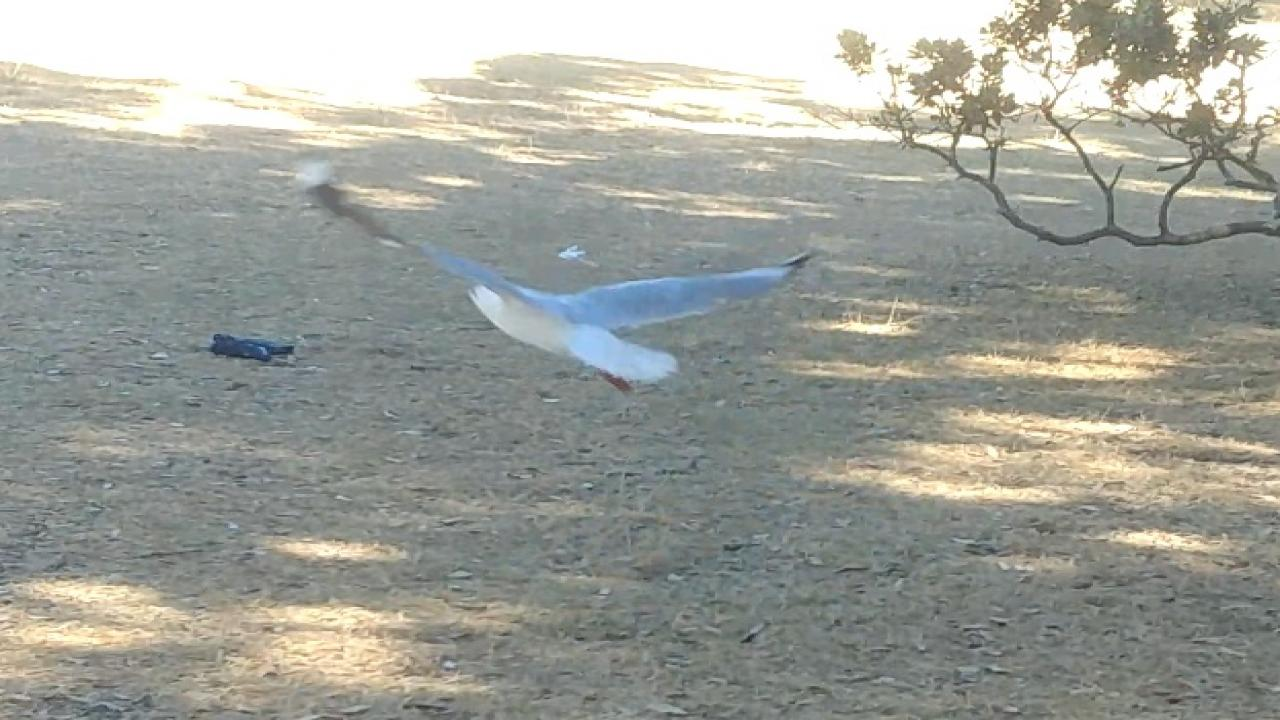Bird: (273, 151, 829, 400)
